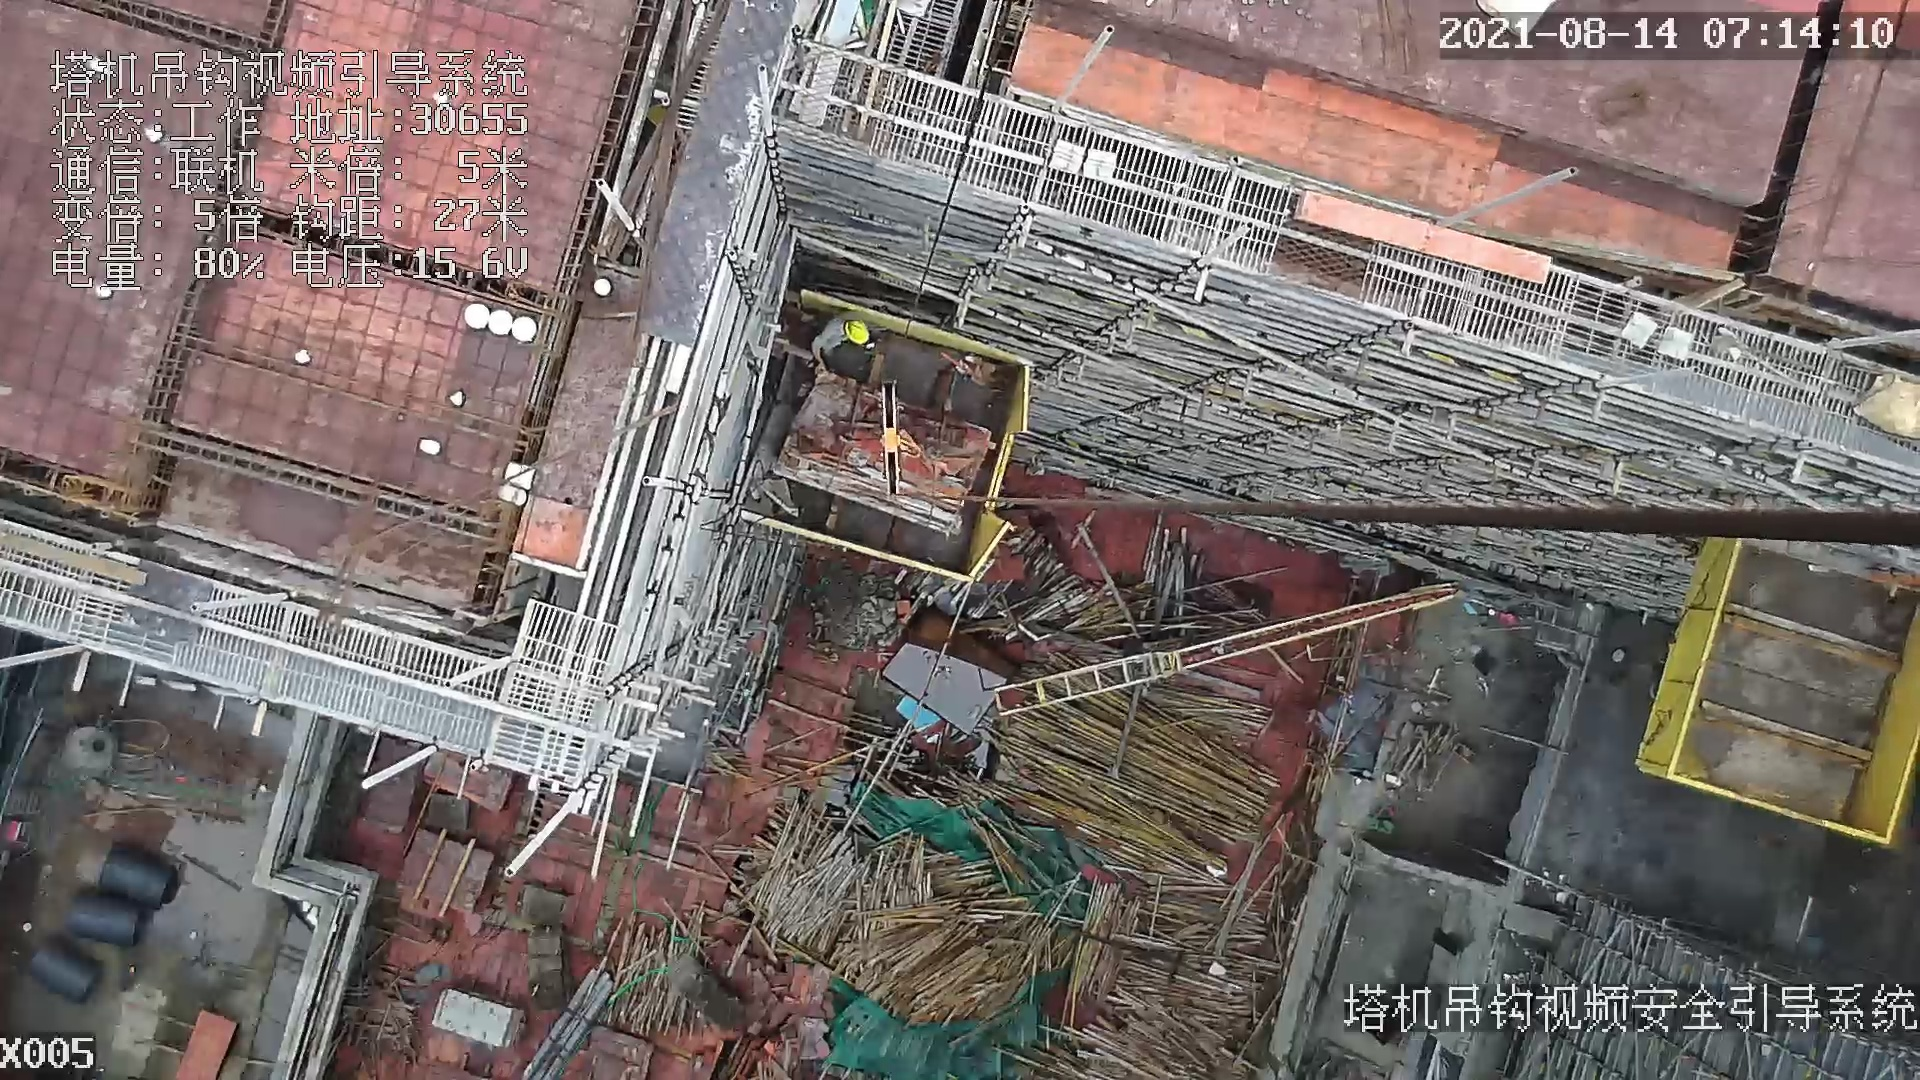helmet: (841, 311, 871, 346)
hook: (878, 377, 926, 509)
person: (808, 306, 876, 386)
